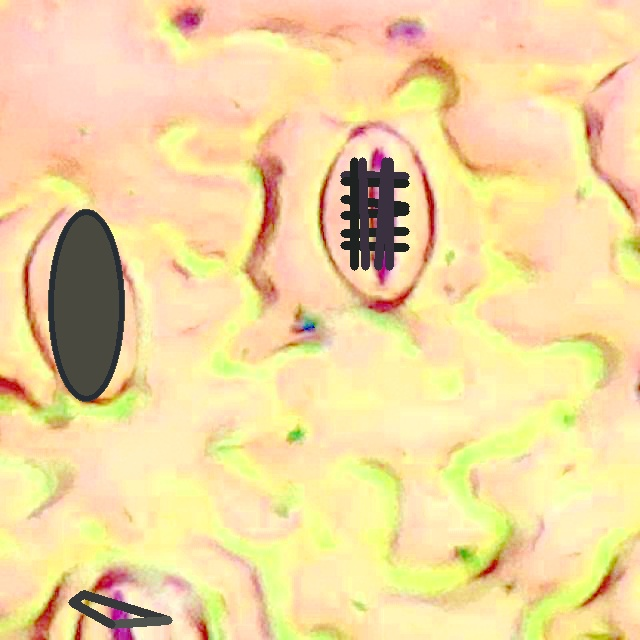open: (47, 210, 124, 400), (340, 157, 409, 270), (68, 590, 171, 627)
